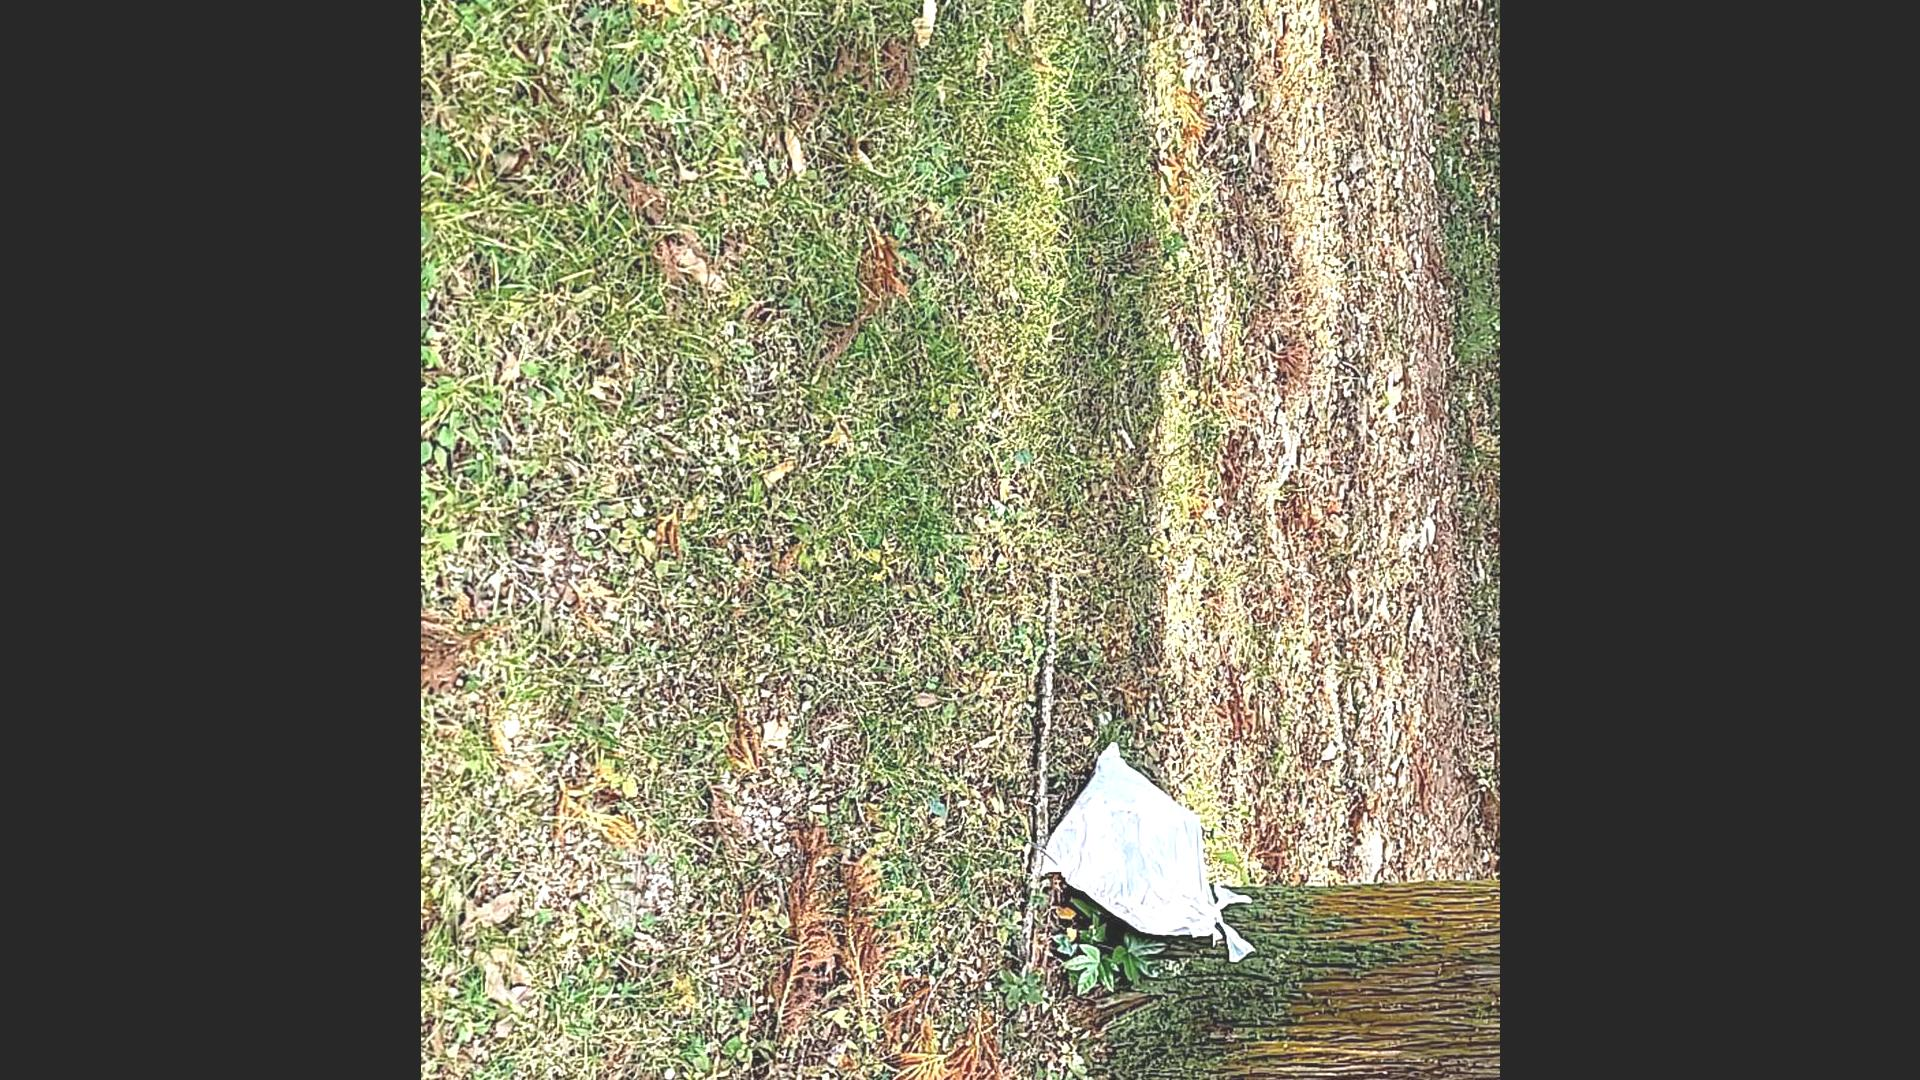white_bag: (1023, 732, 1274, 973)
